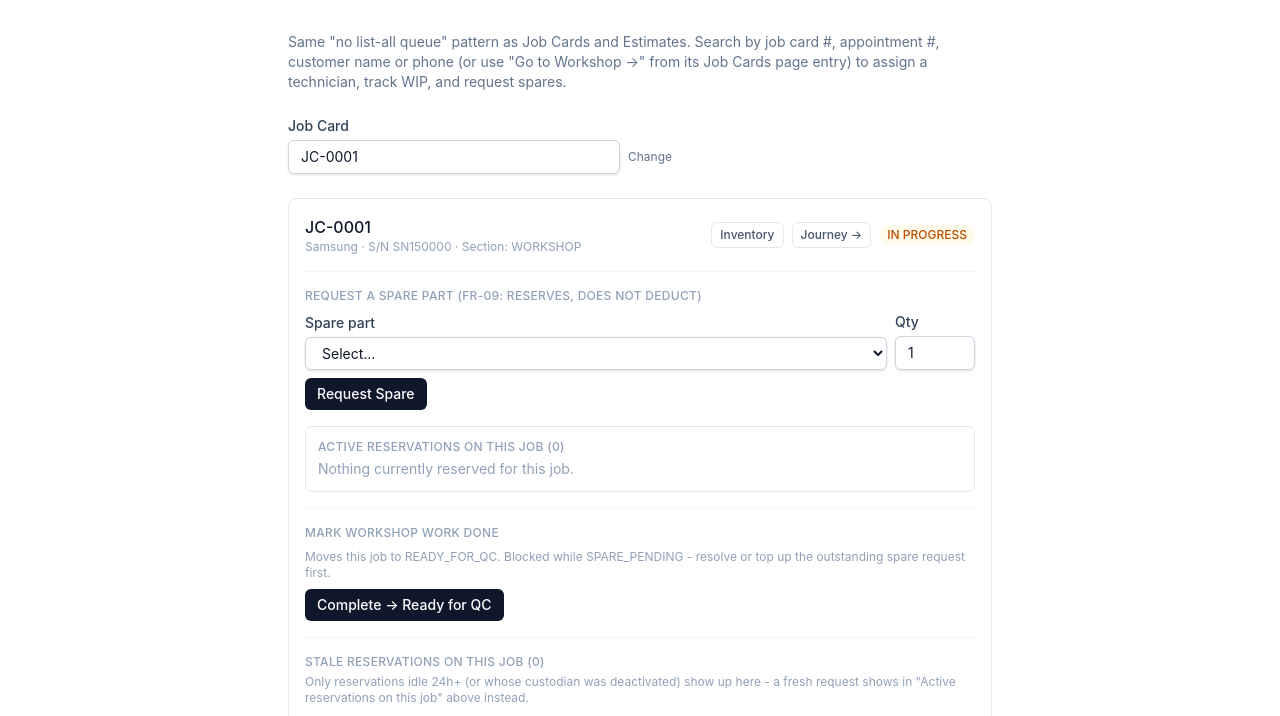
Scenario: WorkshopPage - inline Stock lookup pill (Modification Request 2026-09-15) › shows the pill to a caller holding INVENTORY_VIEW, and opens Stock lookup in a Modal without leaving the job card
Click the button "Inventory" at [747, 235], box [711,222,784,248]
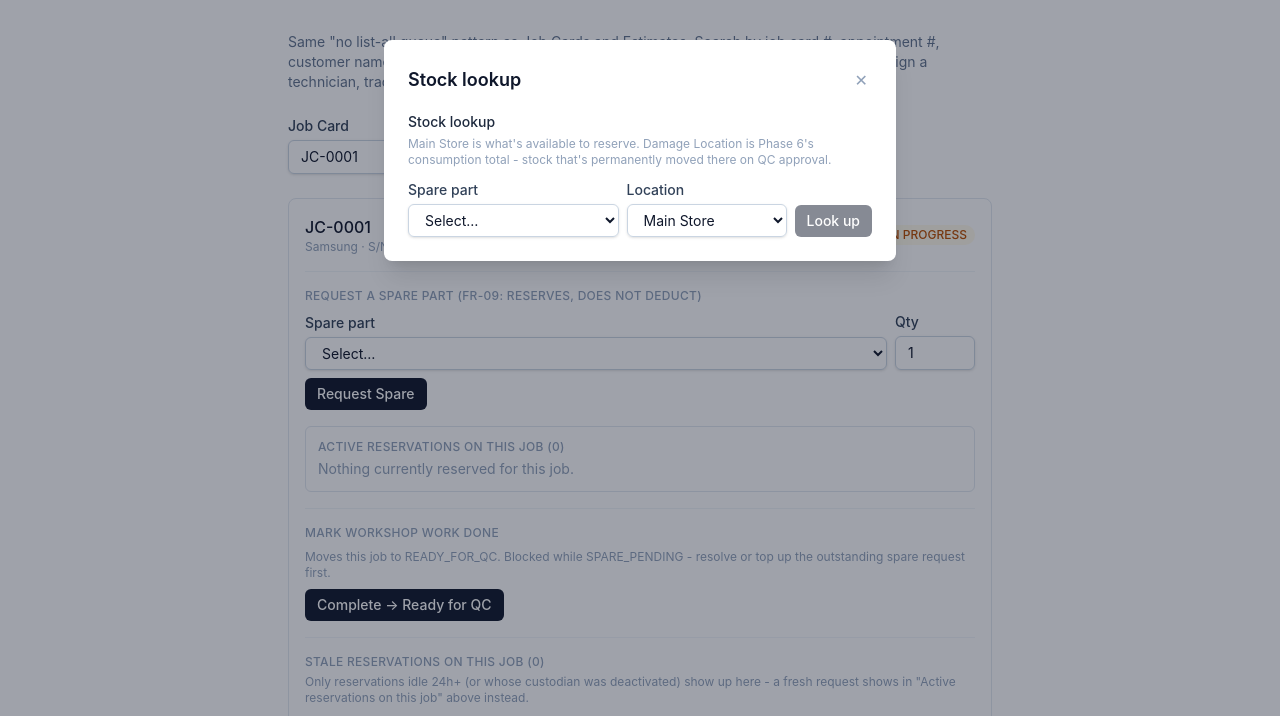
Check: the text "JC-0001" is shown, box [305,217,371,237]
Check: the dialog "Stock lookup" is shown, box [384,40,896,261]
